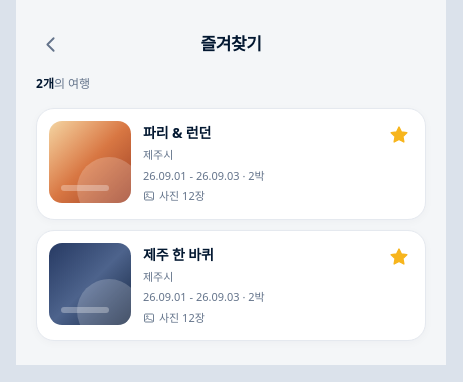
Test case: FavoriteTripsPage › 별을 누르면 즐겨찾기를 해제하고 목록에서 바로 뺀다
Expected: the heading "파리 & 런던" is shown, [143, 123, 211, 142]
Click the button named "파리 & 런던 즐겨찾기 해제".
click(399, 135)  # box [377, 113, 421, 157]
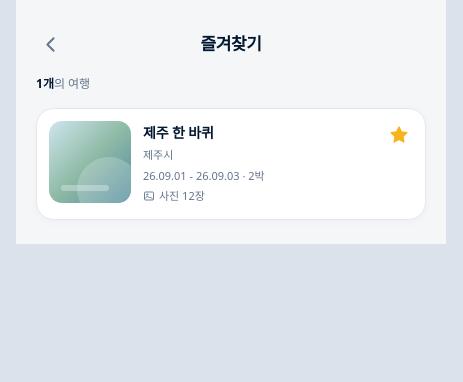
Expected: the heading "파리 & 런던" is gone
